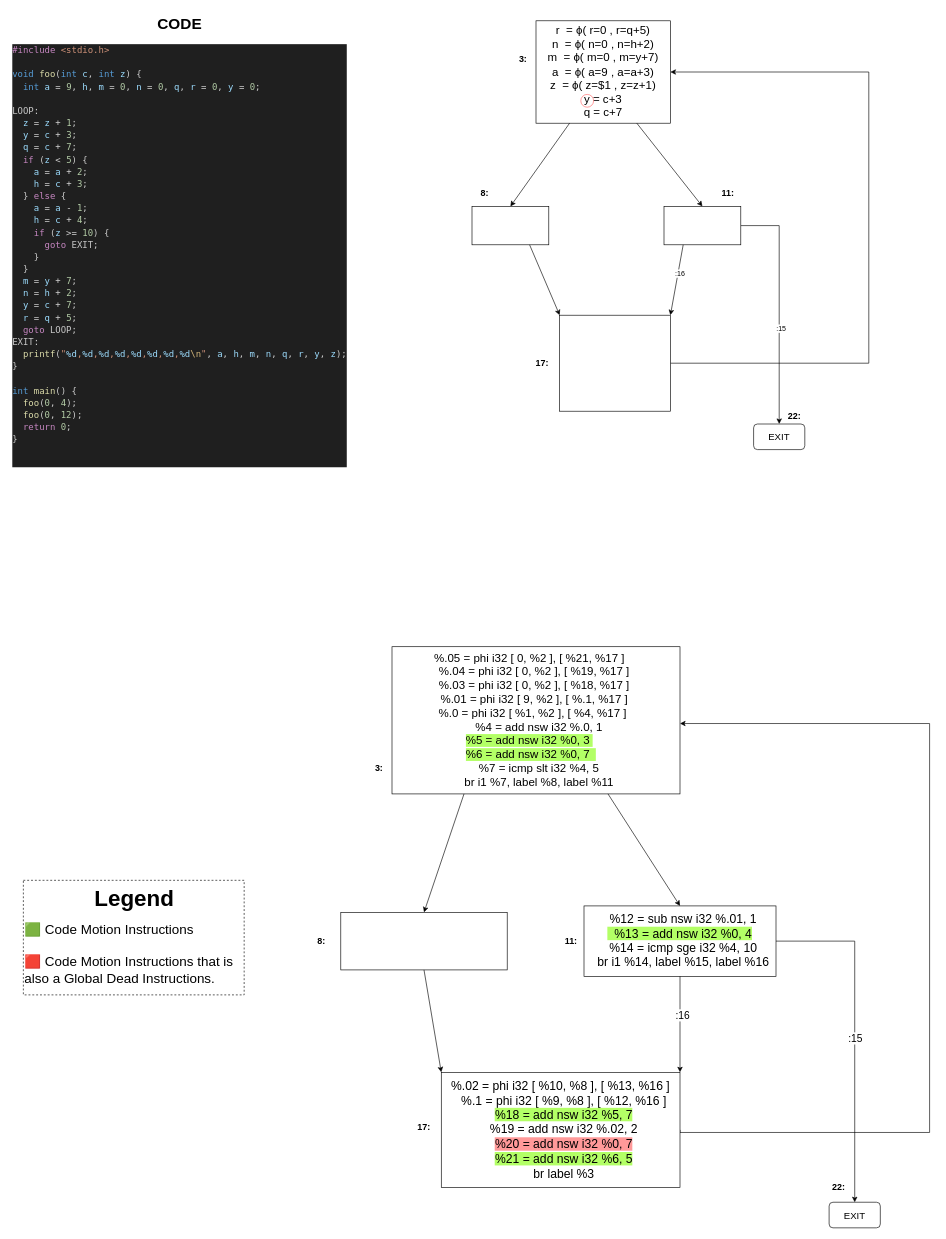
The diagram is 946 pixels wide and 1239 high, and some of its shapes have lost their labels. Each missing label, with the centre of its shape:
"%9 = add nsw i32 %.01, 2 %10 = add nsw i32 %0, 3 br label %17" goes at point (423, 941).
"a1 = a+2 h1 = c+3" goes at point (510, 225).
"a2 = a-1 h2 = c+4" goes at point (702, 225).
"a3 = ϕ(a1,a2) h3 = ϕ(h1,h2) m = y+7 n = h+2 y = c+7 r = q+5" goes at point (614, 363).
